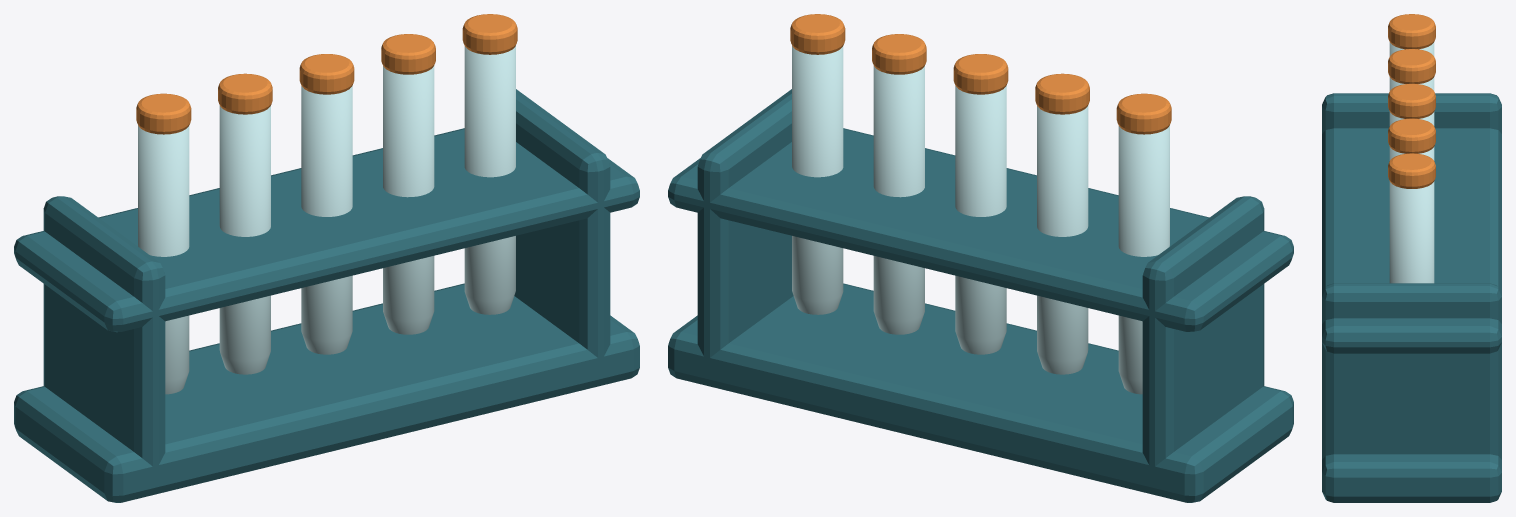
File: TestTubeRack.fbx
The picture shows the model from 3 angles, left to right: view 1: azimuth 30°, elevation 25°; view 2: azimuth 150°, elevation 25°; view 3: azimuth 270°, elevation 25°; orthographic projection. The views are drawn at different scales.
Parts seen in each view (by area): view 1: RackBase, RackTop, RackUpright, RackUpright.001, TestTube.003, TestTube.001, TestTube.002, TestTube.004, TestTube, TubeCap, TubeCap.002, TubeCap.004 (+2 smaller); view 2: RackBase, RackTop, RackUpright, RackUpright.001, TestTube.003, TestTube.001, TestTube.002, TestTube.004, TestTube, TubeCap, TubeCap.002, TubeCap.004 (+2 smaller); view 3: RackTop, RackUpright.001, RackBase, RackUpright, TestTube.004, TubeCap.003, TubeCap.004, TubeCap.002, TubeCap, TubeCap.001.
Boxes of the visible parts, x1=… form: RackBase: x1=14, y1=283, x2=639, y2=502; RackTop: x1=14, y1=128, x2=639, y2=332; RackUpright: x1=43, y1=196, x2=165, y2=494; RackUpright.001: x1=514, y1=89, x2=610, y2=386; TestTube.003: x1=383, y1=66, x2=434, y2=334; TestTube.001: x1=219, y1=105, x2=270, y2=374; TestTube.002: x1=301, y1=86, x2=352, y2=354; TestTube.004: x1=464, y1=45, x2=515, y2=314; TestTube: x1=138, y1=125, x2=189, y2=394; TubeCap: x1=136, y1=93, x2=191, y2=134; TubeCap.002: x1=299, y1=54, x2=354, y2=94; TubeCap.004: x1=462, y1=14, x2=517, y2=54; RackBase: x1=668, y1=283, x2=1293, y2=502; RackTop: x1=668, y1=128, x2=1293, y2=332; RackUpright: x1=1142, y1=196, x2=1264, y2=483; RackUpright.001: x1=697, y1=89, x2=793, y2=357; TestTube.003: x1=873, y1=66, x2=924, y2=334; TestTube.001: x1=1037, y1=105, x2=1088, y2=374; TestTube.002: x1=955, y1=86, x2=1006, y2=354; TestTube.004: x1=792, y1=45, x2=843, y2=314; TestTube: x1=1118, y1=125, x2=1169, y2=394; TubeCap: x1=1116, y1=93, x2=1171, y2=134; TubeCap.002: x1=953, y1=54, x2=1008, y2=94; TubeCap.004: x1=790, y1=14, x2=845, y2=54; RackTop: x1=1322, y1=128, x2=1501, y2=353; RackUpright.001: x1=1322, y1=283, x2=1501, y2=459; RackBase: x1=1322, y1=454, x2=1501, y2=502; RackUpright: x1=1322, y1=93, x2=1501, y2=133; TestTube.004: x1=1389, y1=181, x2=1434, y2=283; TubeCap.003: x1=1388, y1=118, x2=1435, y2=153; TubeCap.004: x1=1388, y1=153, x2=1435, y2=188; TubeCap.002: x1=1388, y1=83, x2=1435, y2=118; TubeCap: x1=1388, y1=14, x2=1435, y2=49; TubeCap.001: x1=1388, y1=49, x2=1435, y2=83.
Bounding box in the file's own units: 36 × 22.2 × 12.
